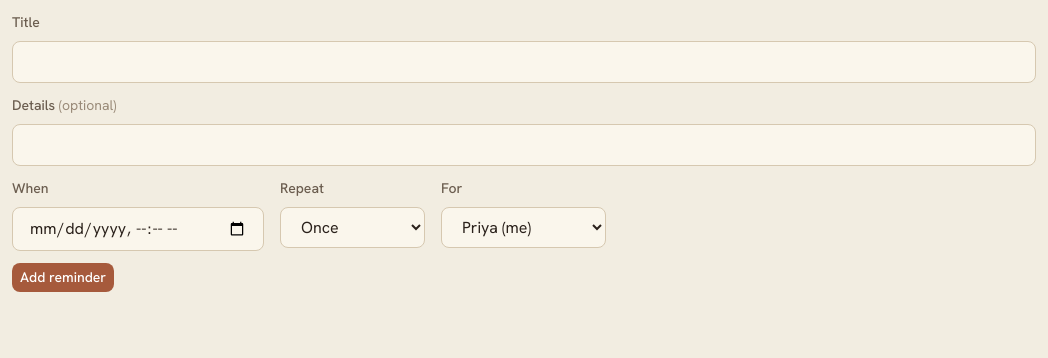
ReminderForm › falls back to a generic message for a non-Error rejection
Step 1. Type "X" into the field labelled "Title" → [524, 62], box left=12, top=41, right=1036, bottom=83
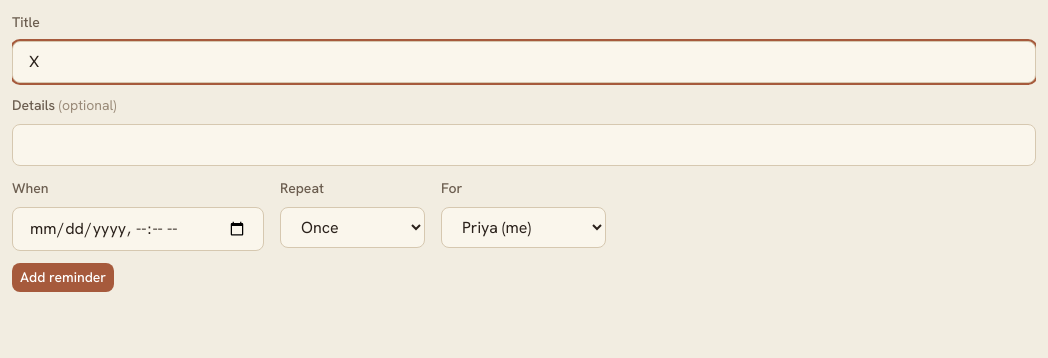
Step 2. Type "2026-06-01T09:00" into the field labelled "When" → [138, 229], box left=12, top=207, right=264, bottom=251
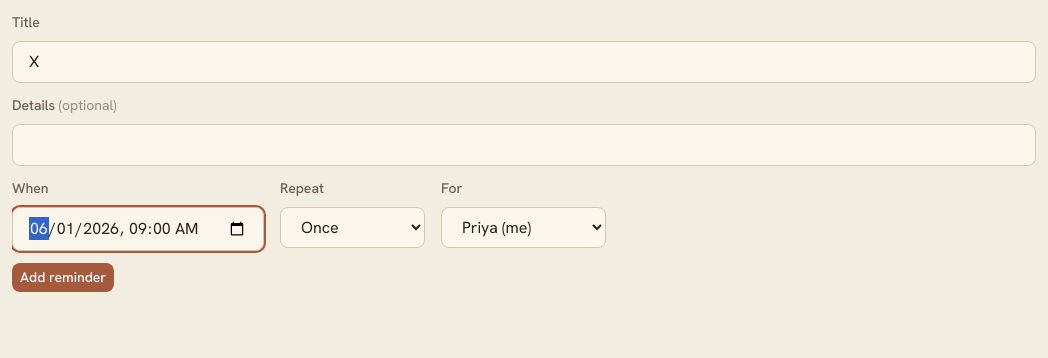
Step 3. Click the button "Add reminder" → [63, 278], box left=12, top=263, right=114, bottom=292
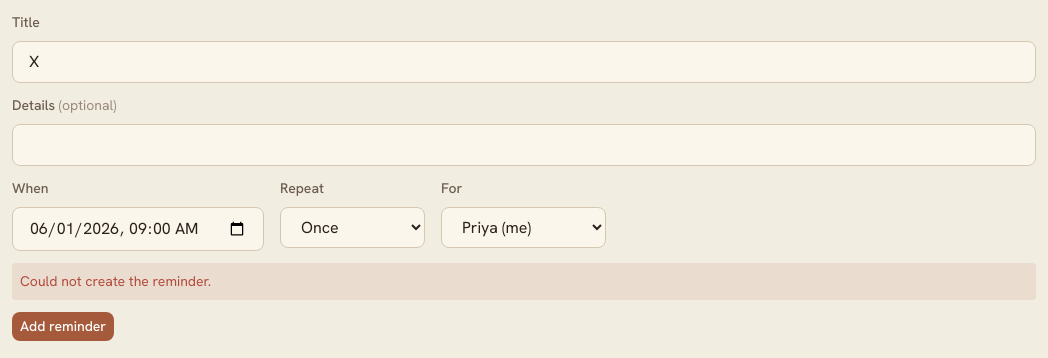
Result: the text "Could not create the reminder." is shown at left=12, top=263, right=1036, bottom=300
